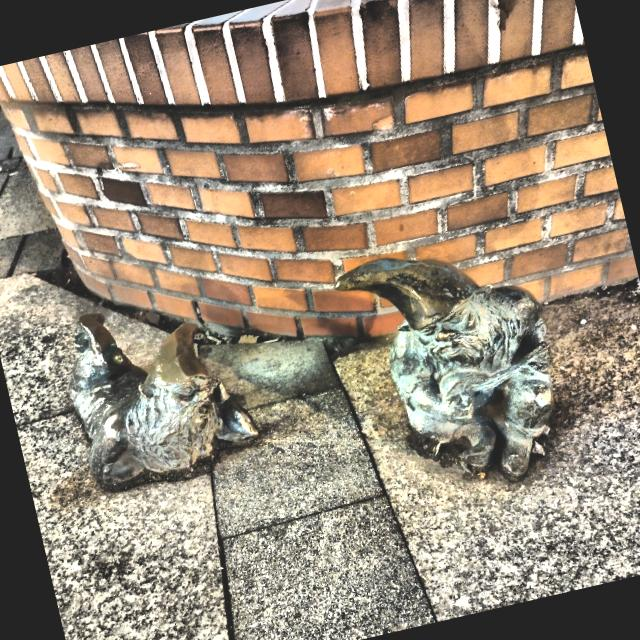Grajek_i_Meloman: (67, 259, 553, 487)
